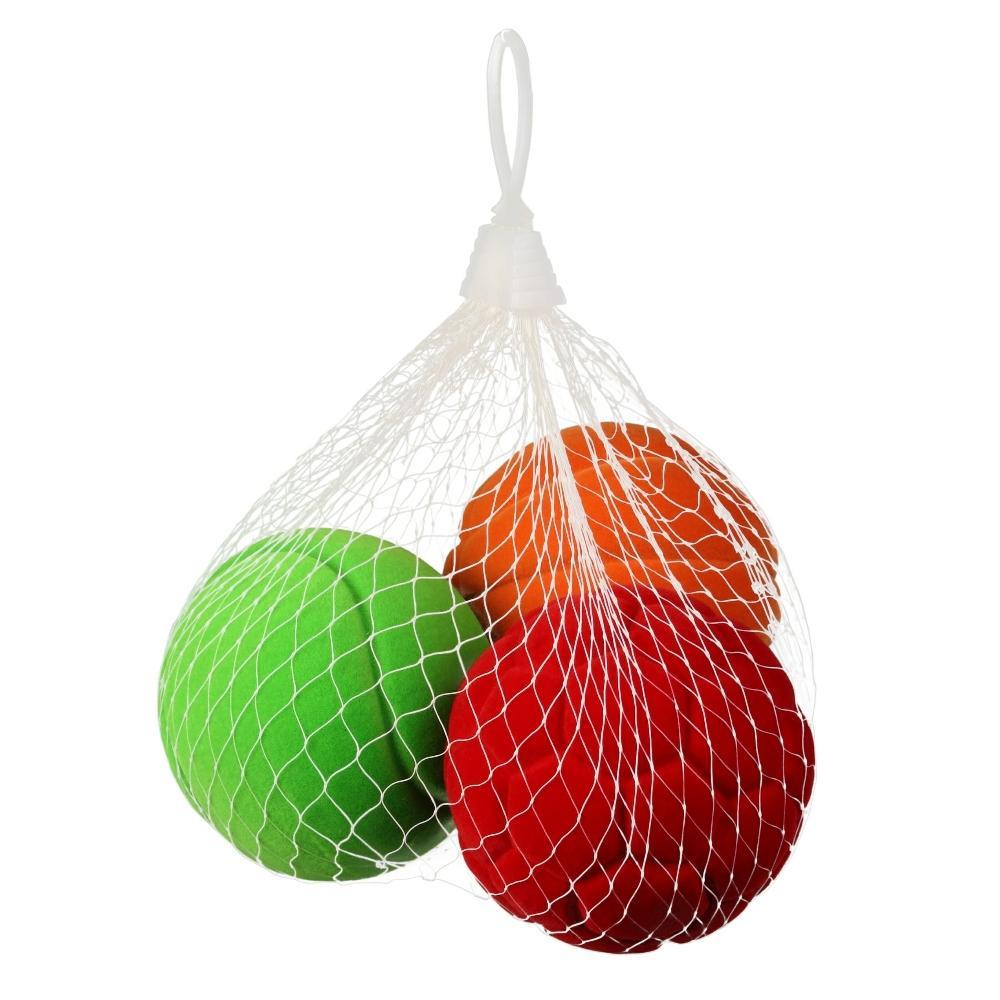red ball: (437, 582, 819, 959)
